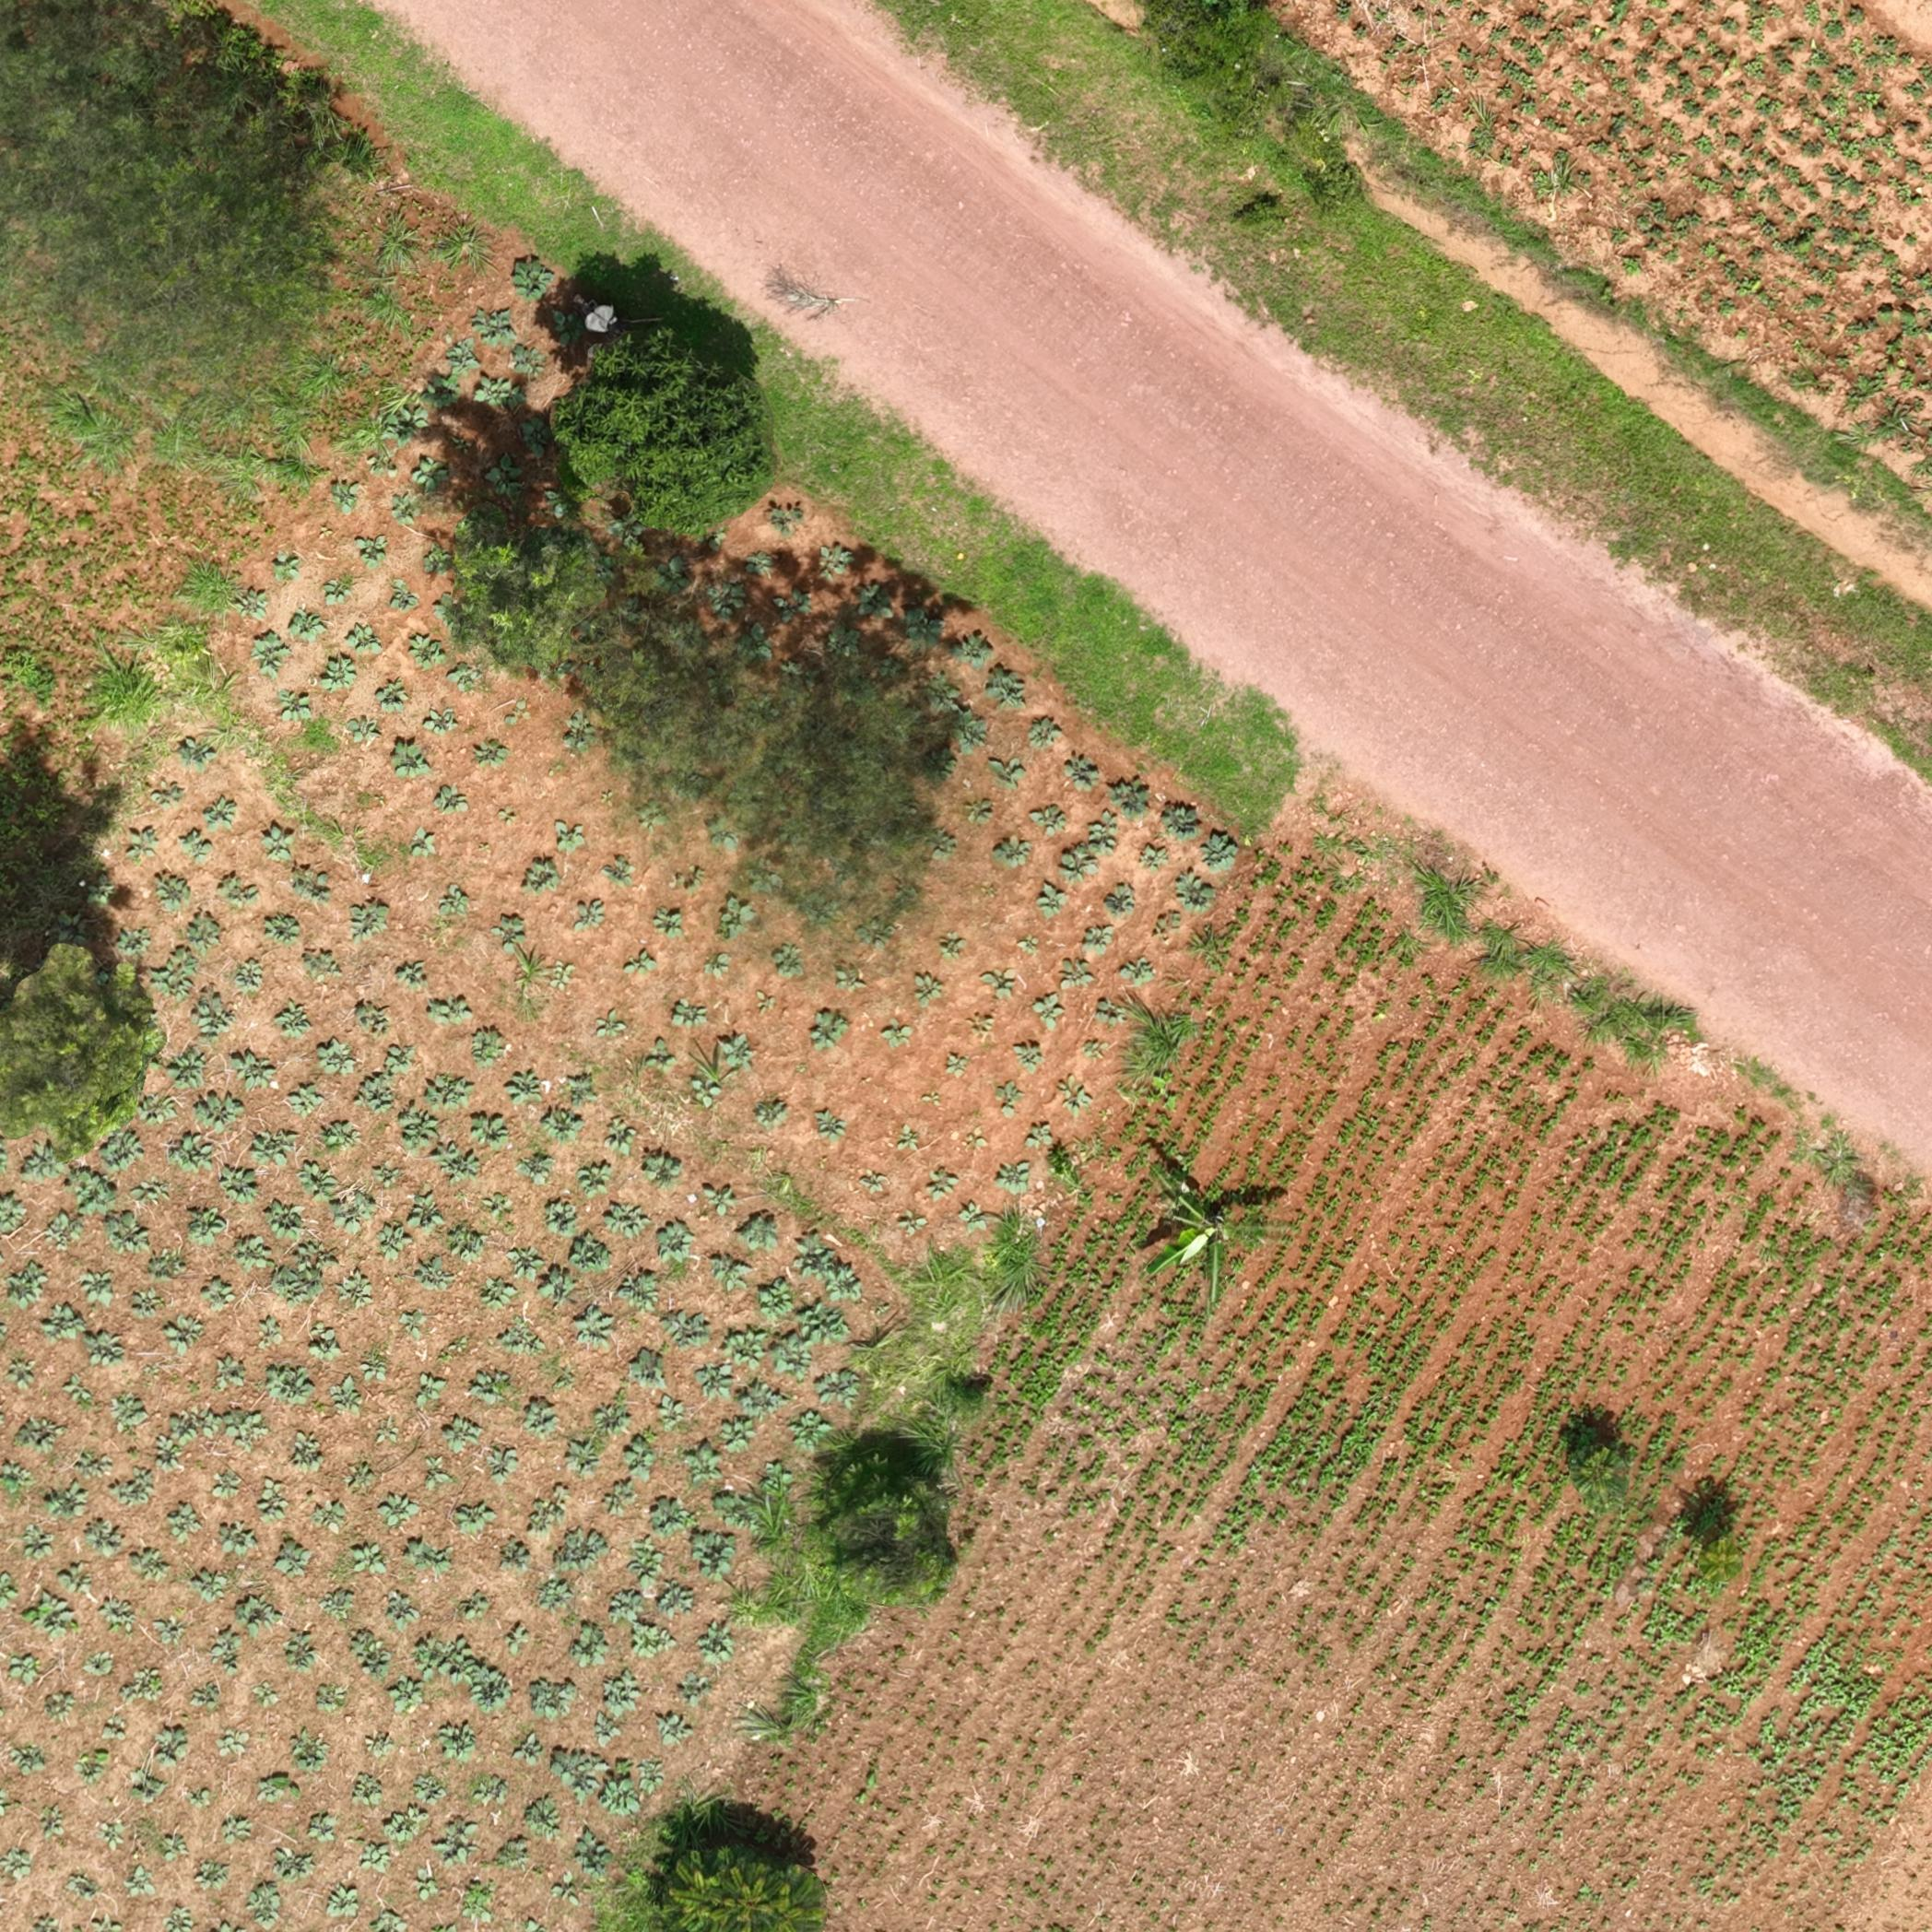Banana: (1145, 1146, 1261, 1283)
